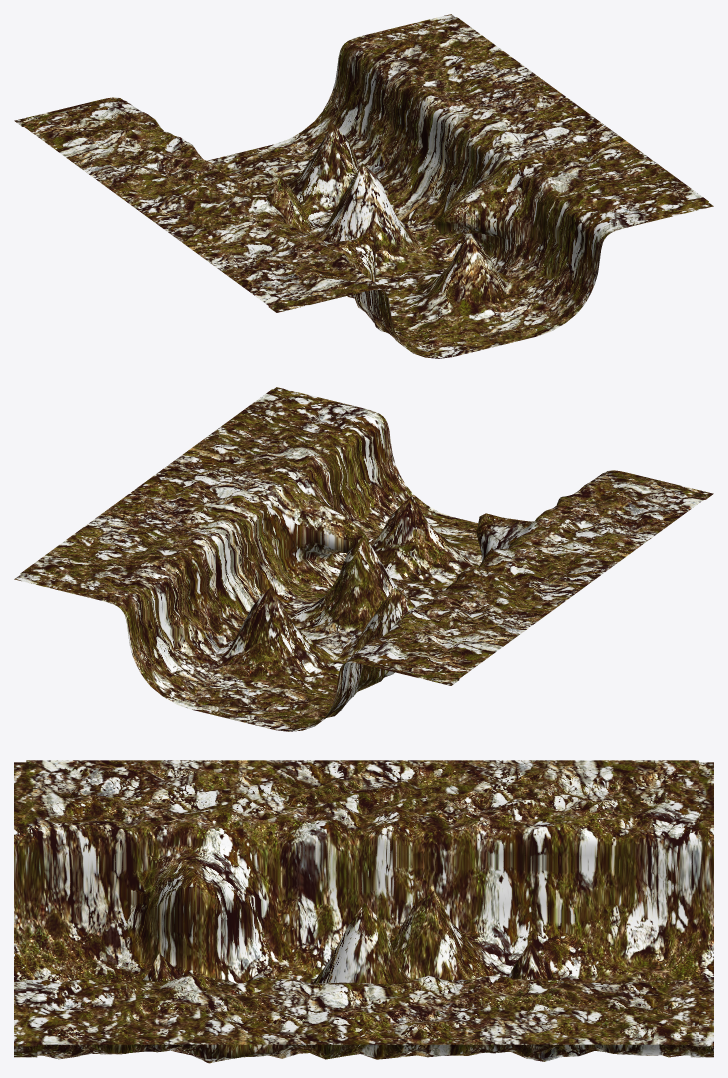
File: SpikeValley01.FBX
The picture shows the model from 3 angles, top to bottom: view 1: azimuth 30°, elevation 25°; view 2: azimuth 150°, elevation 25°; view 3: azimuth 270°, elevation 25°; orthographic projection. The views are drawn at different scales.
Parts seen in each view (by area): view 1: SpikeValley; view 2: SpikeValley; view 3: SpikeValley.
Part boxes in pixels (bbox=[...]): SpikeValley: bbox=[14, 14, 713, 358]; SpikeValley: bbox=[14, 387, 713, 731]; SpikeValley: bbox=[14, 760, 713, 1063].
Size of the model in its own units: 1000 by 207 by 1041.
